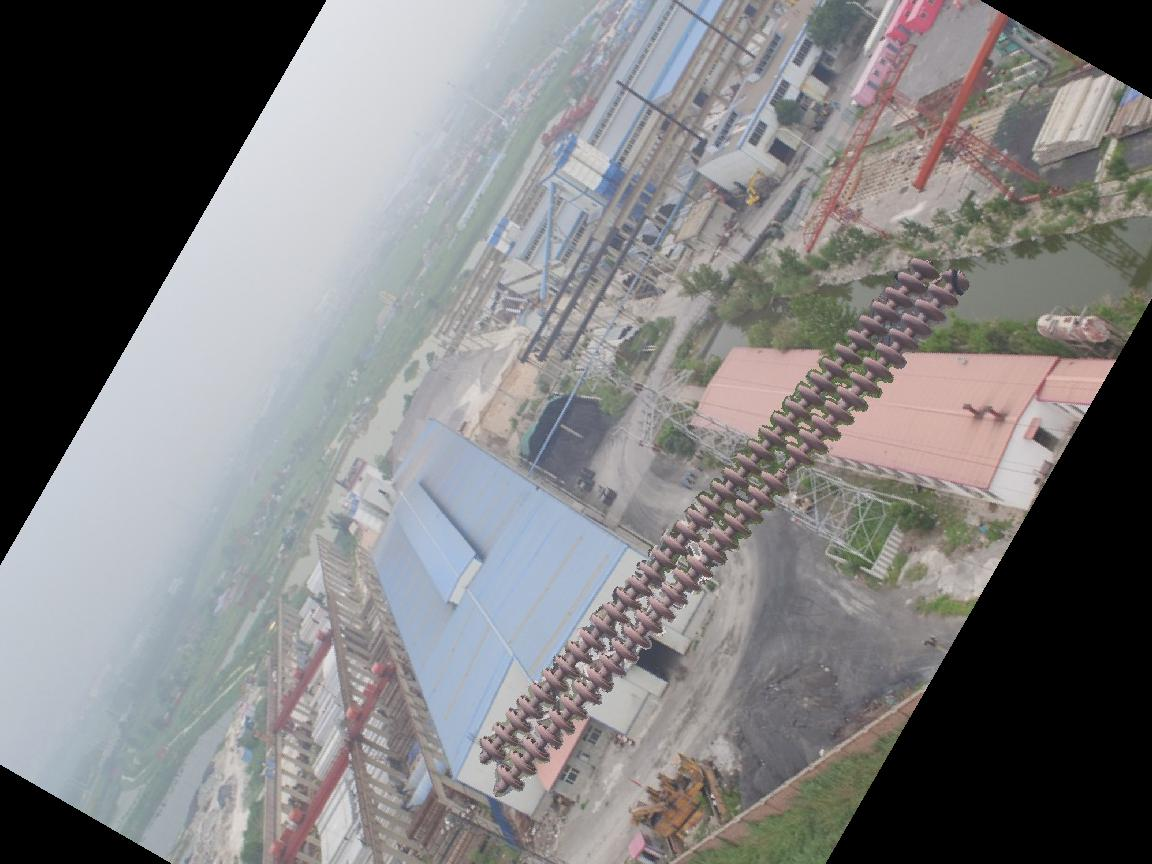insulator: (470, 251, 971, 795)
insulator_stringdrop: (758, 438, 815, 495)
